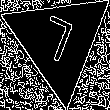L_SW: (36, 12, 82, 71)
